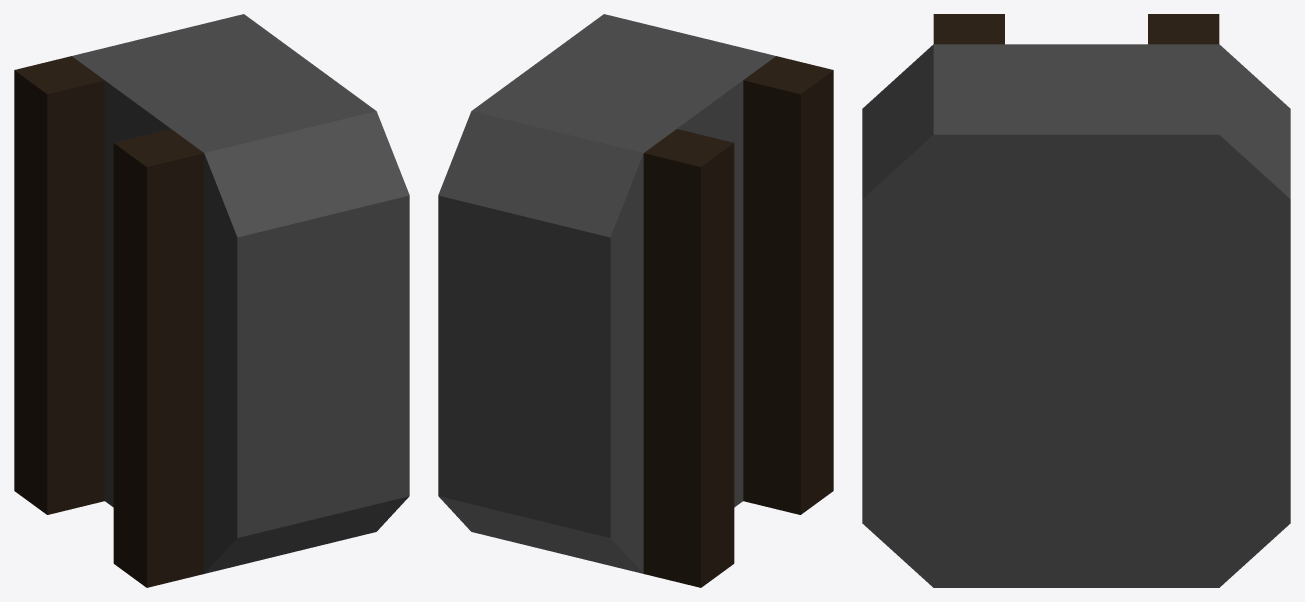
File: jetpack.obj
3 renders of one model, left to right at view 1: azimuth 30°, elevation 25°; view 2: azimuth 150°, elevation 25°; view 3: azimuth 270°, elevation 25°, orthographic. The views are drawn at different scales.
Parts seen in each view (by area): view 1: entity0_brush1, entity0_brush0, entity0_brush2; view 2: entity0_brush1, entity0_brush2, entity0_brush0; view 3: entity0_brush1, entity0_brush0, entity0_brush2.
Part boxes in pixels (box(x1,y1,x2,y2)): entity0_brush1: box(72, 14, 409, 573); entity0_brush0: box(113, 129, 204, 587); entity0_brush2: box(14, 56, 104, 514); entity0_brush1: box(438, 14, 775, 573); entity0_brush2: box(643, 129, 734, 587); entity0_brush0: box(743, 56, 833, 514); entity0_brush1: box(862, 44, 1290, 587); entity0_brush0: box(933, 14, 1004, 44); entity0_brush2: box(1148, 14, 1219, 44).
Bounding box in the file's own units: 64 × 112 × 96.
2 materials, 2 textured.
